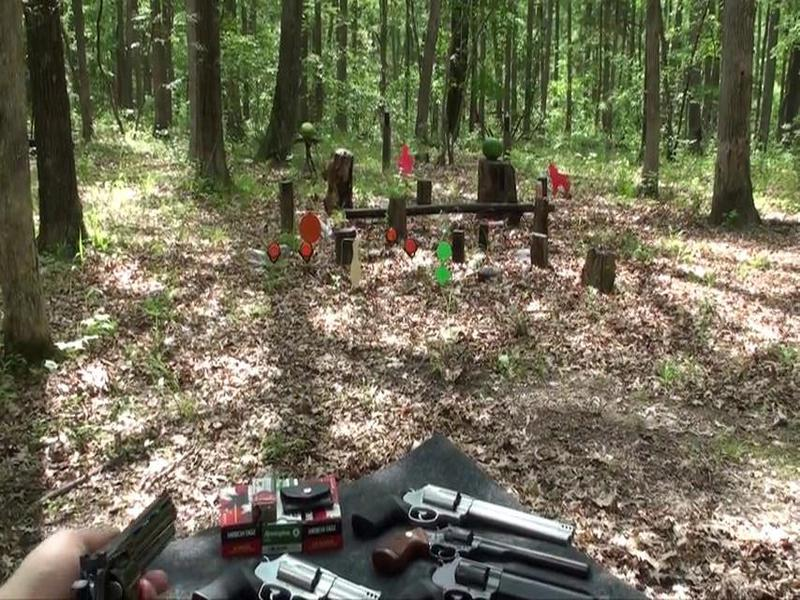Revolver: (74, 483, 189, 600)
